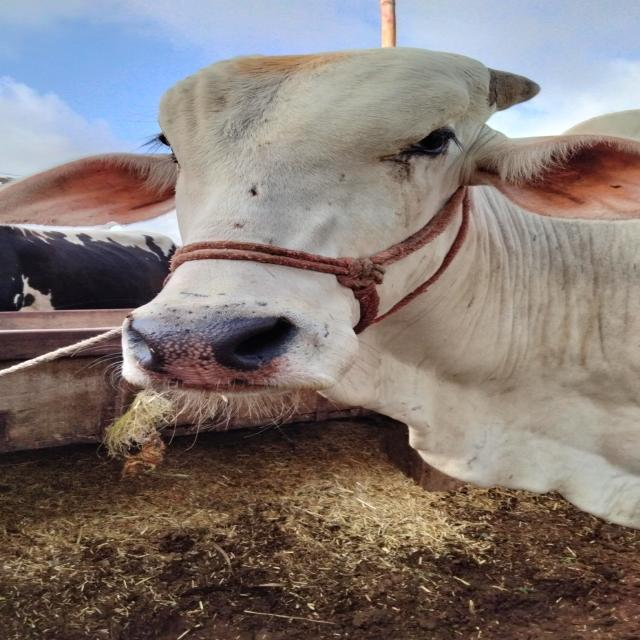muzzles: (104, 302, 317, 394)
